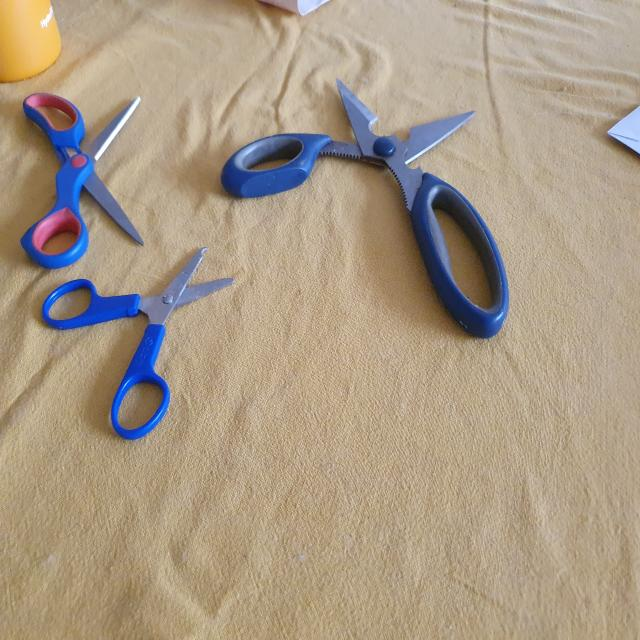scissors: (221, 75, 513, 341), (42, 244, 232, 443), (16, 89, 143, 272)
